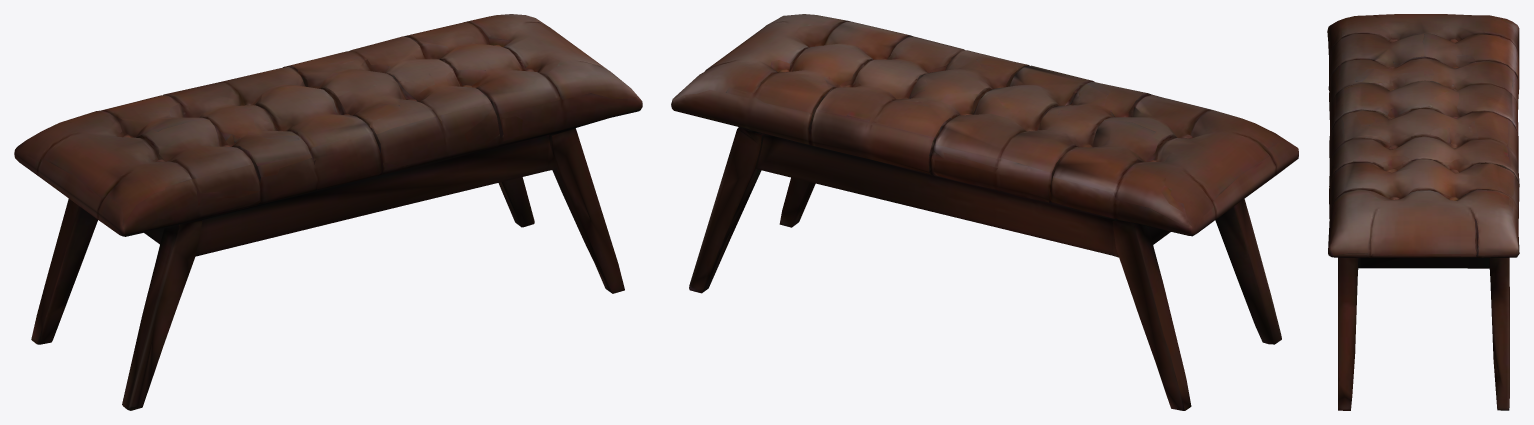
3 renders of one model, left to right at view 1: azimuth 30°, elevation 25°; view 2: azimuth 150°, elevation 25°; view 3: azimuth 270°, elevation 25°, orthographic. The views are drawn at different scales.
Visible parts, largest first — view 1: geometry_0; view 2: geometry_0; view 3: geometry_0.
Boxes of the visible parts, x1,y1,x2,y2 form: geometry_0: [14, 14, 642, 410]; geometry_0: [671, 14, 1298, 410]; geometry_0: [1327, 14, 1519, 410].
Bounding box in the file's own units: 1 × 0.4191 × 0.3627.
1 material, 1 textured.
